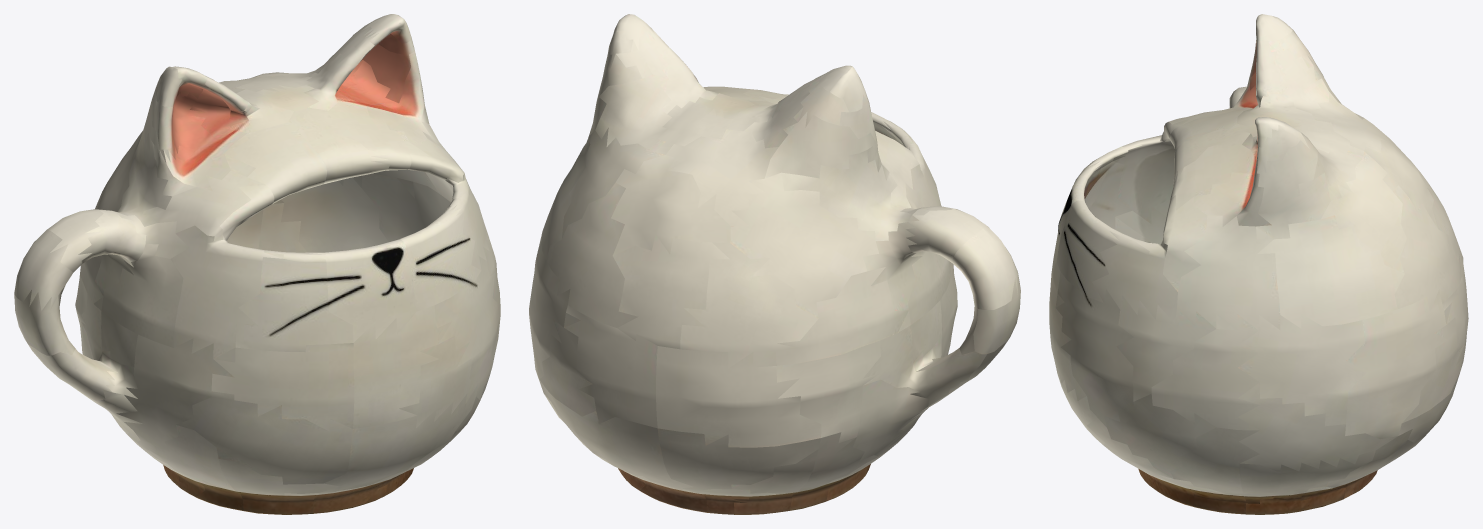
The model's file is meshy-cat-mug.glb.
3 views of the same model, side by side, from view 1: azimuth 30°, elevation 25°; view 2: azimuth 150°, elevation 25°; view 3: azimuth 270°, elevation 25° (orthographic). The views are drawn at different scales.
Bounding box in the file's own units: 1.9 × 1.71 × 1.62.
1 material, 1 textured.
